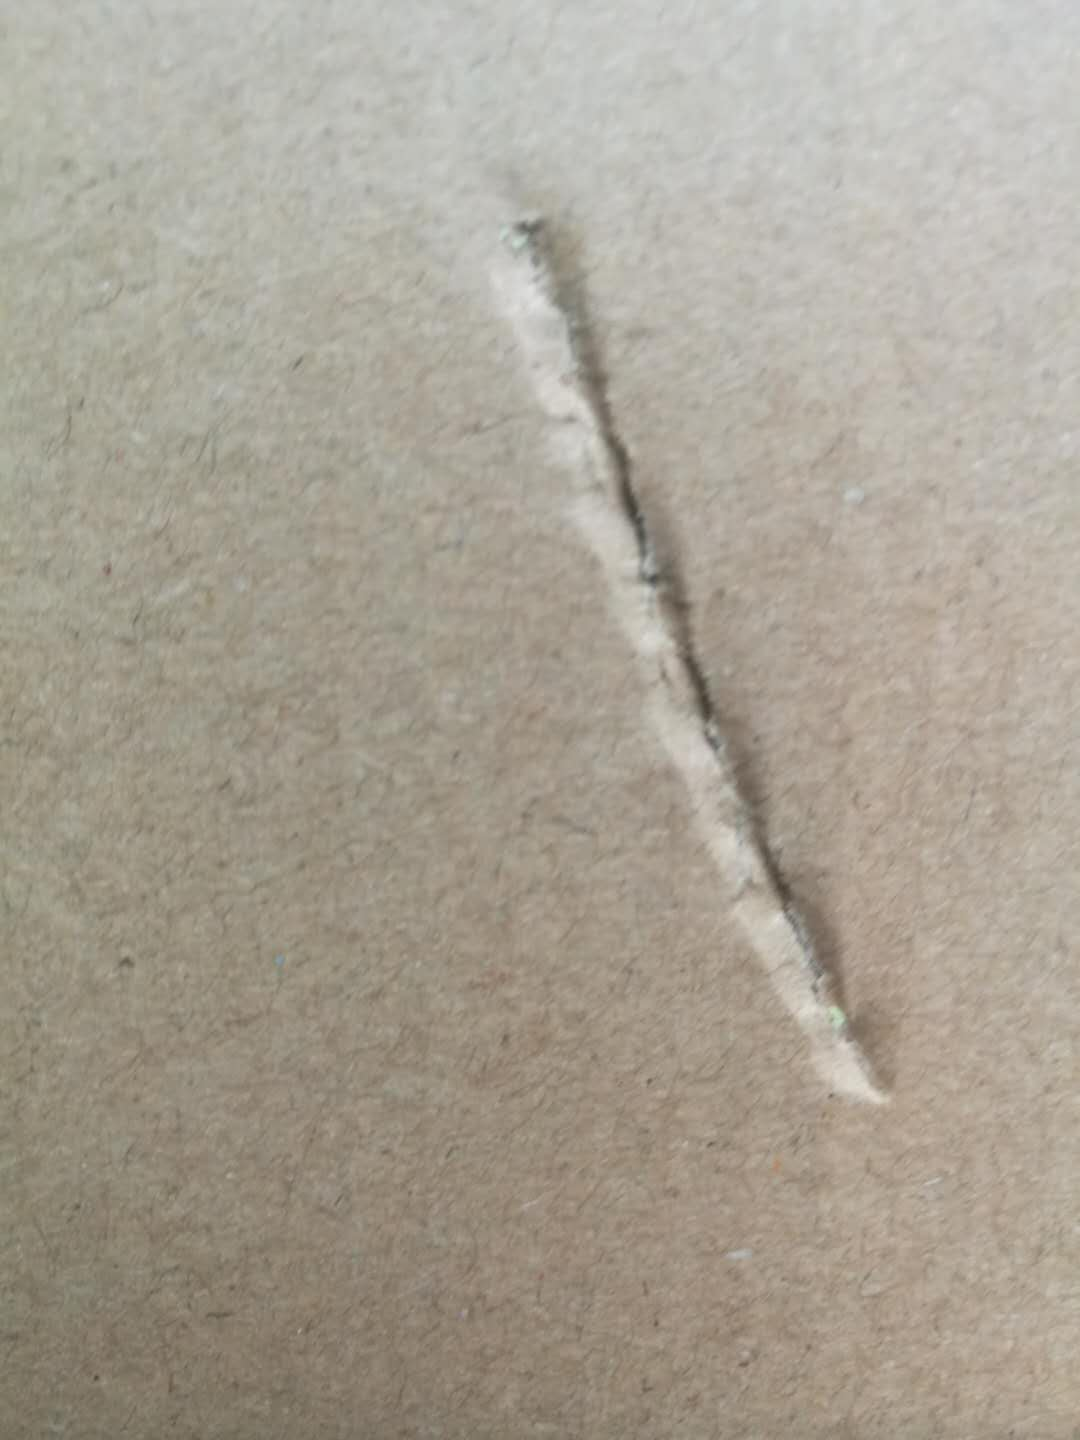defect: (410, 164, 948, 1144)
